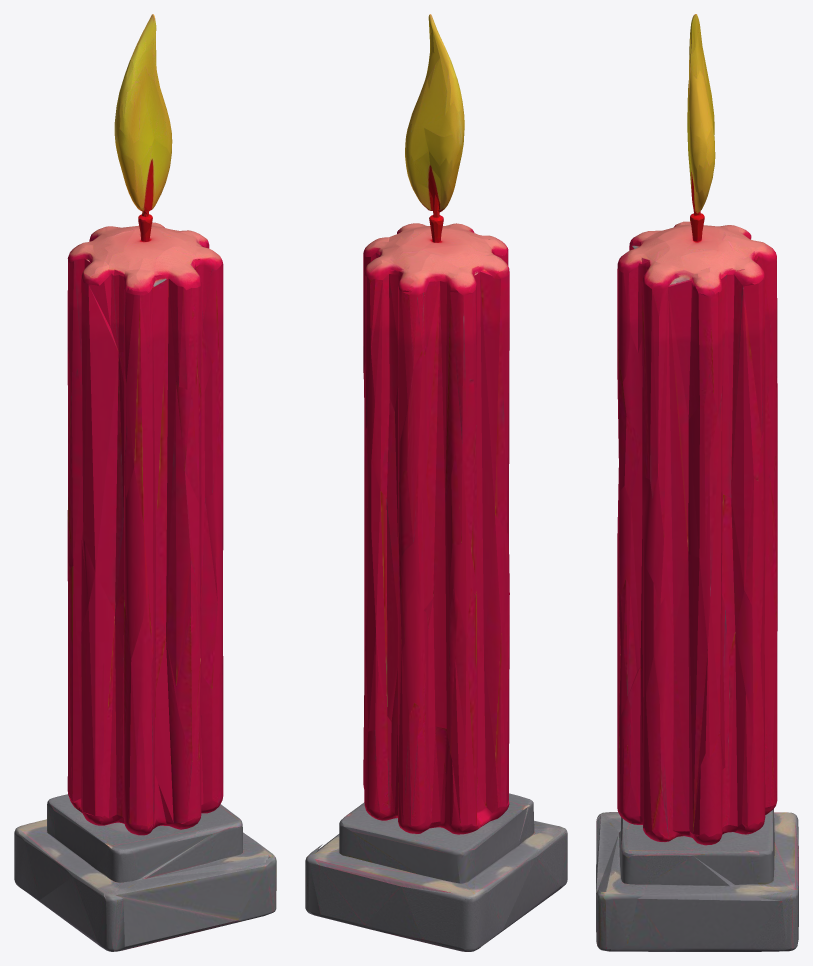
The model's file is candle-pillar.glb.
3 views of the same model, side by side, from view 1: azimuth 30°, elevation 25°; view 2: azimuth 150°, elevation 25°; view 3: azimuth 270°, elevation 25° (orthographic). The views are drawn at different scales.
Size of the model in its own units: 0.3887 by 1.9 by 0.3884.
Materials: 1 (1 with a texture image).
